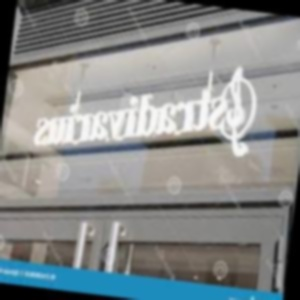stradivarius: (41, 106, 300, 171)
